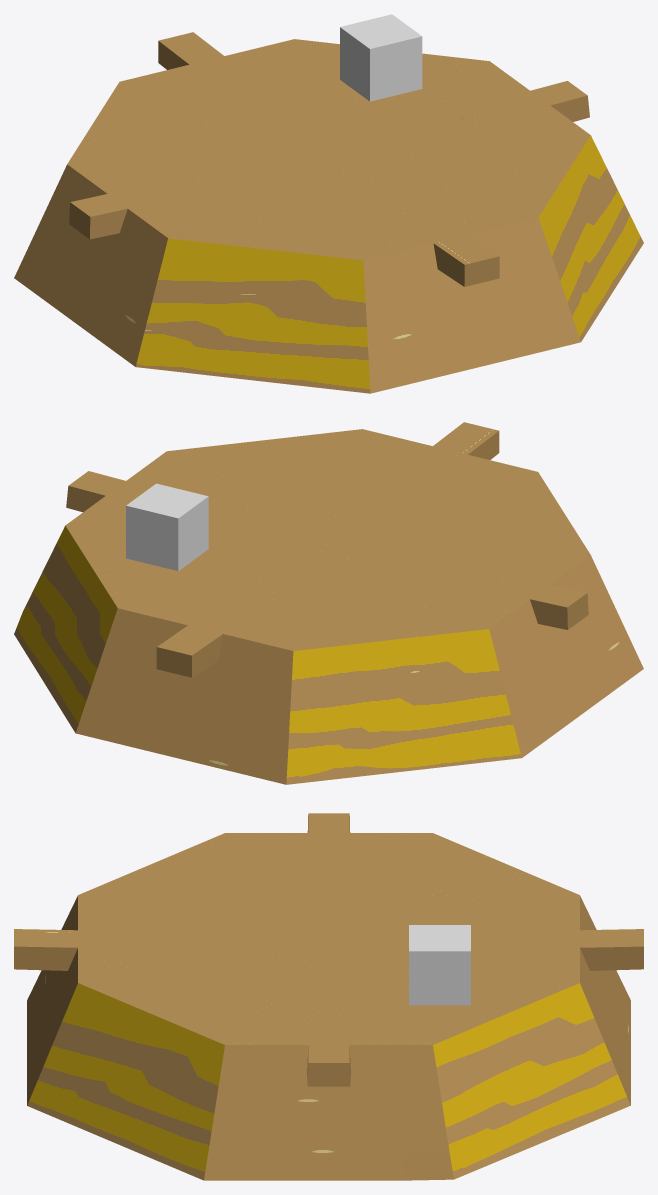
File: testWorld.fbx
3 views of the same model, one above another, from view 1: azimuth 30°, elevation 25°; view 2: azimuth 150°, elevation 25°; view 3: azimuth 270°, elevation 25° (orthographic). The views are drawn at different scales.
Parts seen in each view (by area): view 1: Cylinder, Cylinder.002, Cylinder.001; view 2: Cylinder, Cylinder.002, Cylinder.001; view 3: Cylinder, Cylinder.002, Cylinder.001.
Part boxes in pixels (<box>): Cylinder: <box>14,32,590,393</box>; Cylinder.002: <box>135,135,643,393</box>; Cylinder.001: <box>340,14,422,101</box>; Cylinder: <box>65,422,643,784</box>; Cylinder.002: <box>14,525,521,784</box>; Cylinder.001: <box>126,483,208,571</box>; Cylinder: <box>14,813,643,1180</box>; Cylinder.002: <box>27,983,630,1180</box>; Cylinder.001: <box>409,925,470,1005</box>.
Size of the model in its own units: 10704 by 3290 by 11170.
